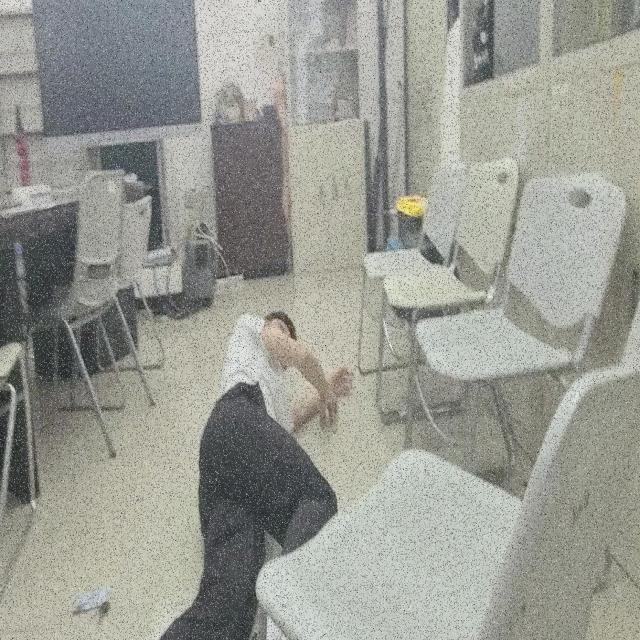fall: (146, 310, 354, 640)
